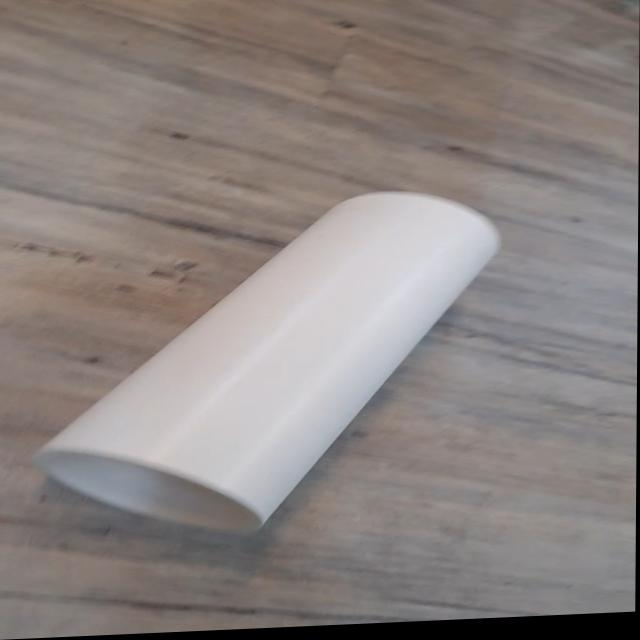CORAL: (2, 150, 529, 565)
